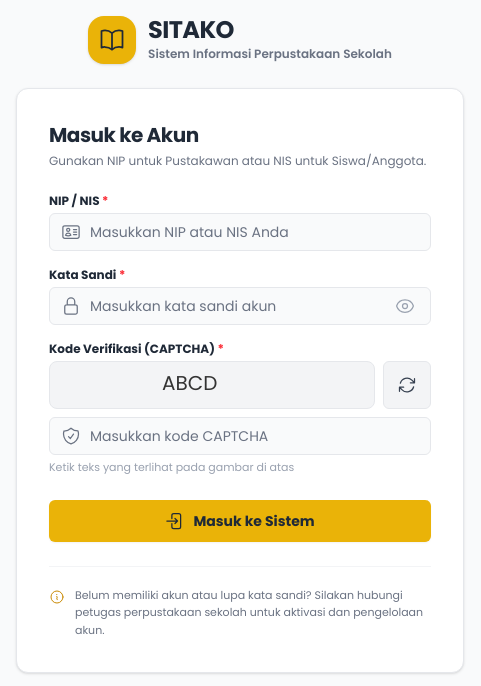
01 - Auth & Error Pages E2E › displays error alert on invalid credentials
The width and height of the screenshot is (481, 686).
Type "wrong-nip" into the field with id "identifier" at (240,232), box [49,213,431,251]
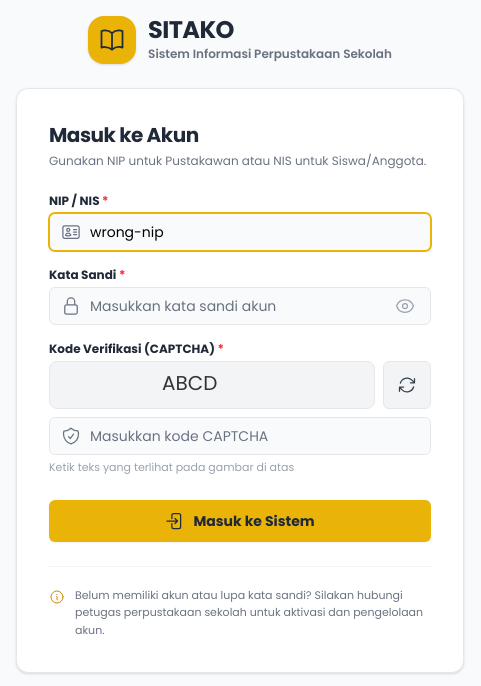
Type "wrong-pass" into the password field with placeholder "Masukkan kata sandi akun" at (240,306), box [49,287,431,325]
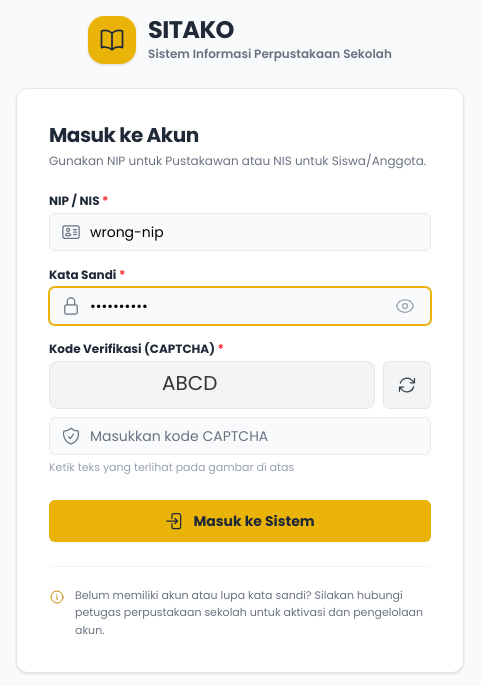
Type "ABCD" into the field with id "captcha" at (240,436), box [49,417,431,455]
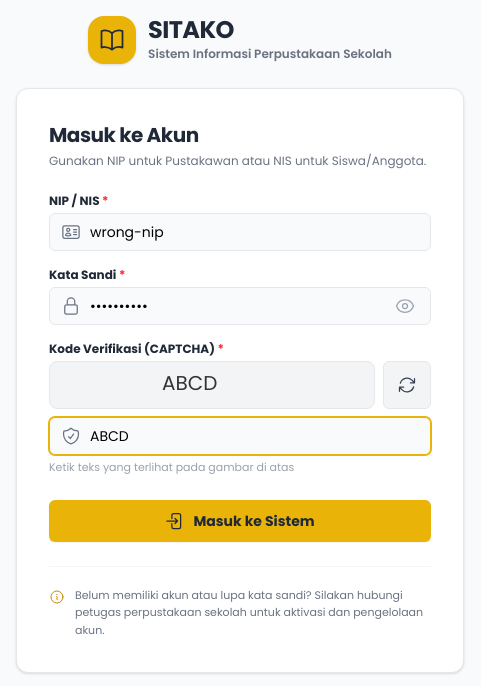
Click the submit button at (240,521), box [49,500,431,542]
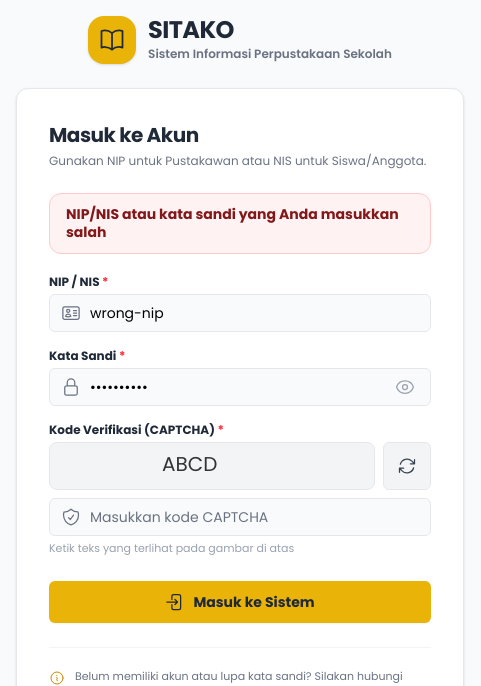
Now the heading "NIP/NIS atau kata sandi yang Anda masukkan salah" is shown, box [66,206,414,241]
